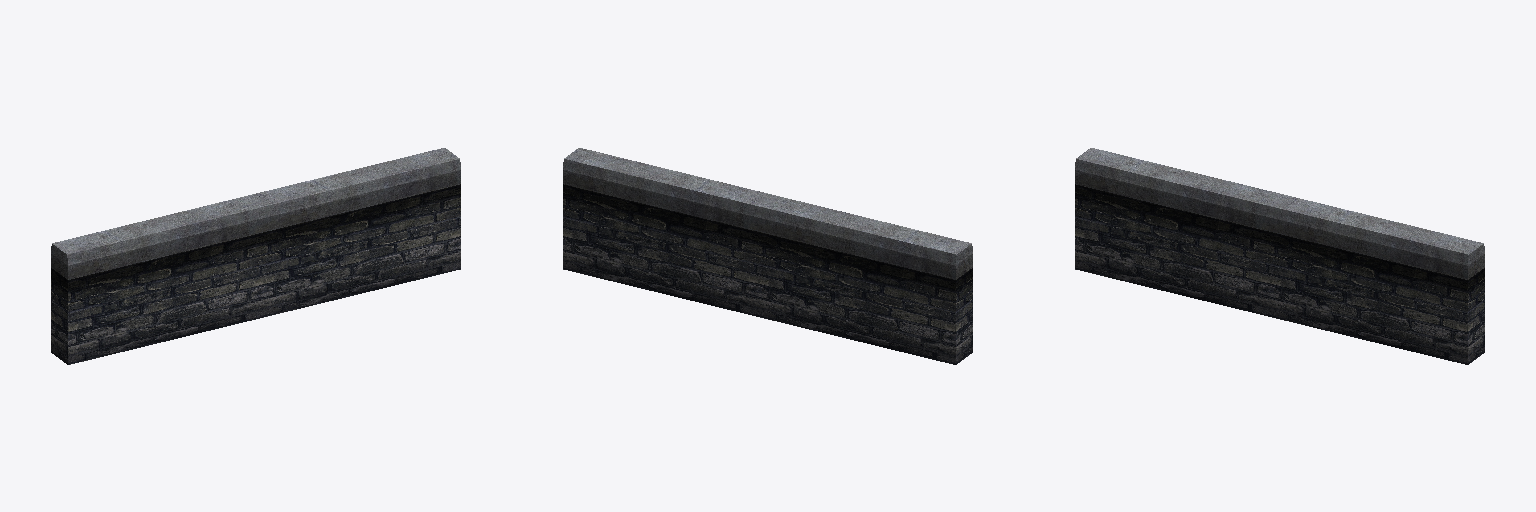
The picture shows the model from 3 angles: view 1: azimuth 30°, elevation 25°; view 2: azimuth 150°, elevation 25°; view 3: azimuth 330°, elevation 25°; orthographic projection.
Parts seen in each view (by area): view 1: mesh1.002_mesh1-geometry; view 2: mesh1.002_mesh1-geometry; view 3: mesh1.002_mesh1-geometry.
Boxes of the visible parts, x1,y1,x2,y2 form: mesh1.002_mesh1-geometry: [51, 148, 460, 364]; mesh1.002_mesh1-geometry: [563, 148, 972, 364]; mesh1.002_mesh1-geometry: [1075, 148, 1484, 364].
Bounding box in the file's own units: 7.62 × 2.04 × 0.5845.
Materials: 1 (1 with a texture image).